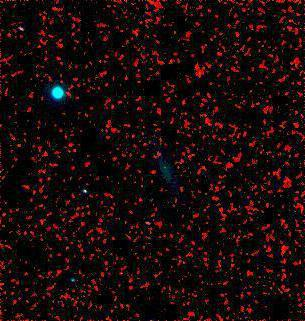star: (43, 77, 73, 107)
